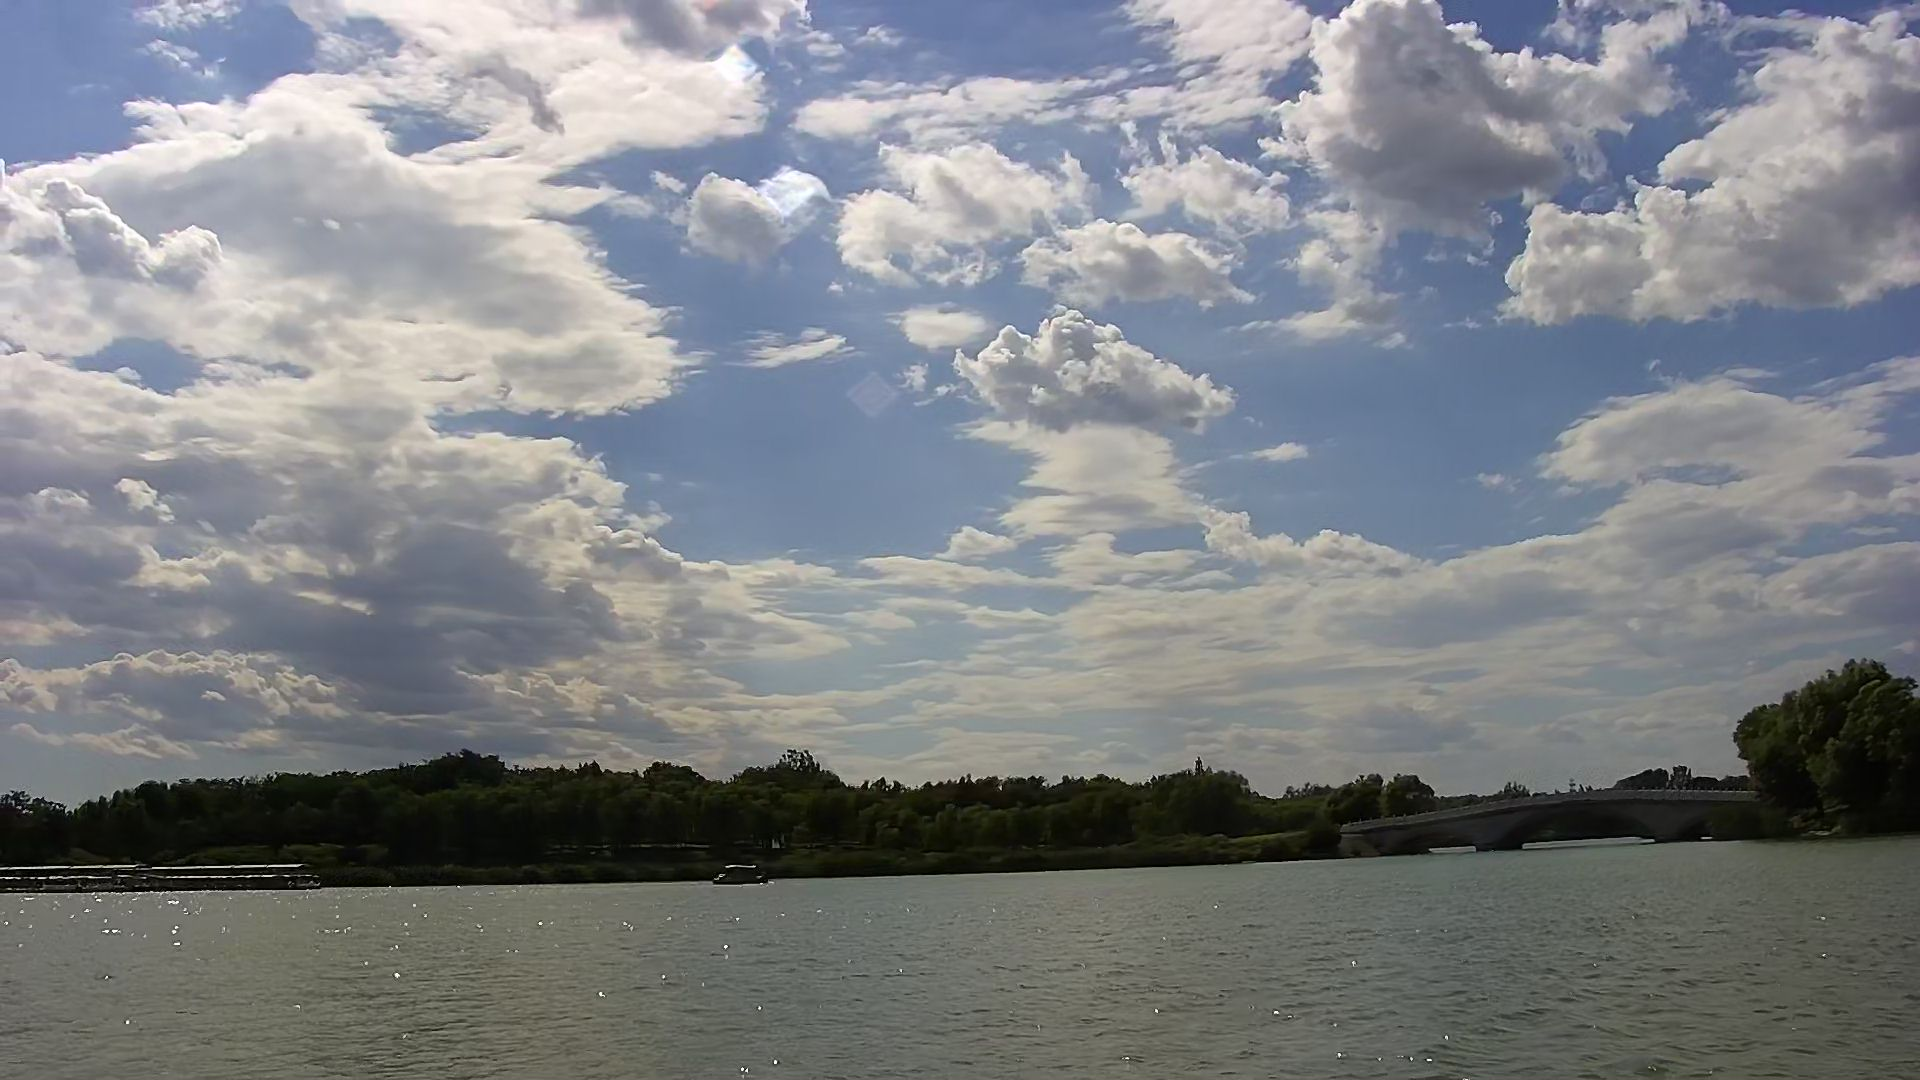boat: (708, 856, 773, 891)
bridge: (1349, 785, 1760, 851)
harbor: (1, 861, 319, 897)
